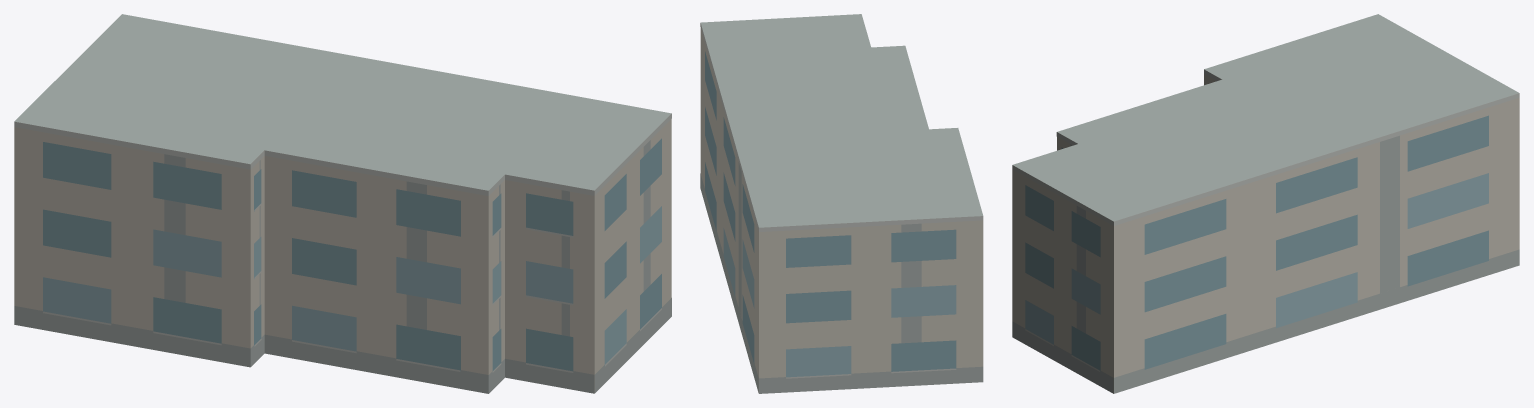
The model's file is survey-upis-32774850.glb.
3 views of the same model, side by side, from view 1: azimuth 30°, elevation 25°; view 2: azimuth 150°, elevation 25°; view 3: azimuth 270°, elevation 25° (orthographic). The views are drawn at different scales.
Visible parts, largest first — view 1: survey-upis-32774850.tmp; view 2: survey-upis-32774850.tmp; view 3: survey-upis-32774850.tmp.
Boxes of the visible parts, x1,y1,x2,y2 form: survey-upis-32774850.tmp: (14,14,671,393); survey-upis-32774850.tmp: (700,14,983,393); survey-upis-32774850.tmp: (1012,14,1519,393).
Bounding box in the file's own units: 23.65 × 9.15 × 24.43.
